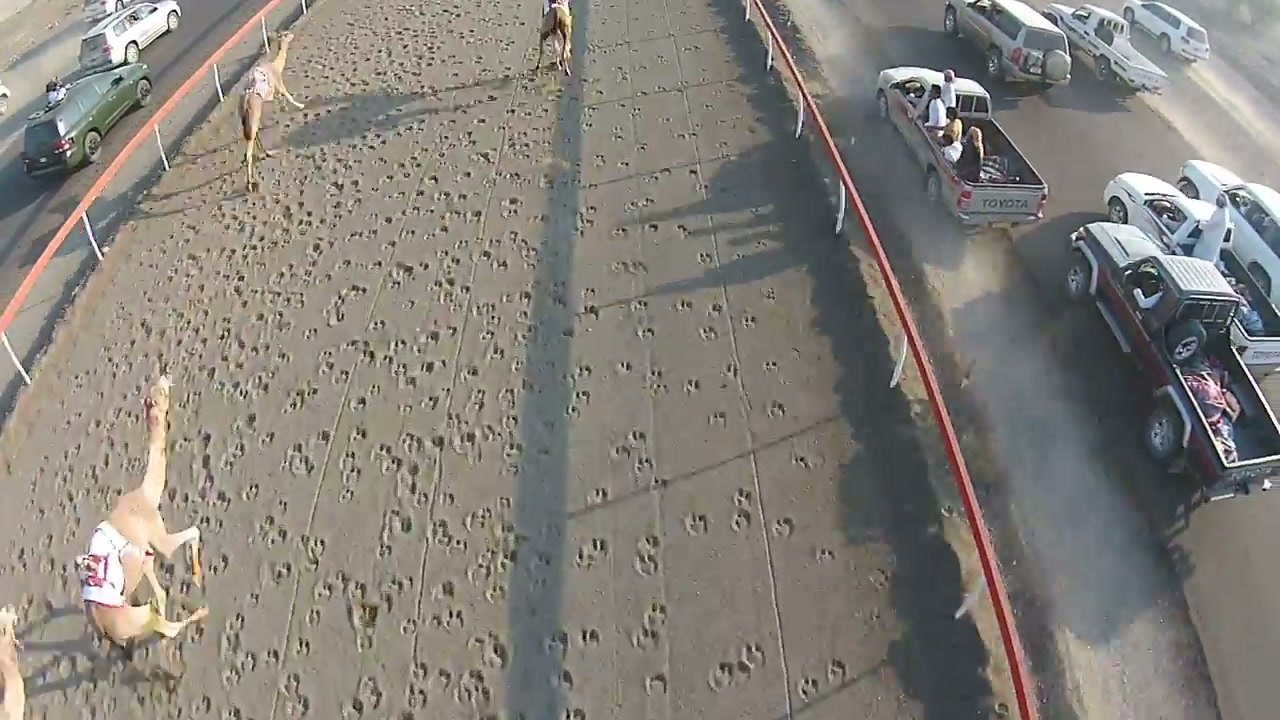animal_footprint: (6, 0, 894, 719), (708, 642, 765, 691), (796, 658, 850, 702), (630, 600, 667, 649), (468, 631, 508, 669), (633, 535, 660, 575), (729, 488, 754, 531), (574, 538, 607, 568), (739, 642, 765, 668), (683, 512, 709, 536), (827, 659, 847, 686), (797, 677, 819, 701), (644, 672, 667, 694), (730, 508, 750, 531), (771, 517, 794, 537), (578, 628, 600, 647)
